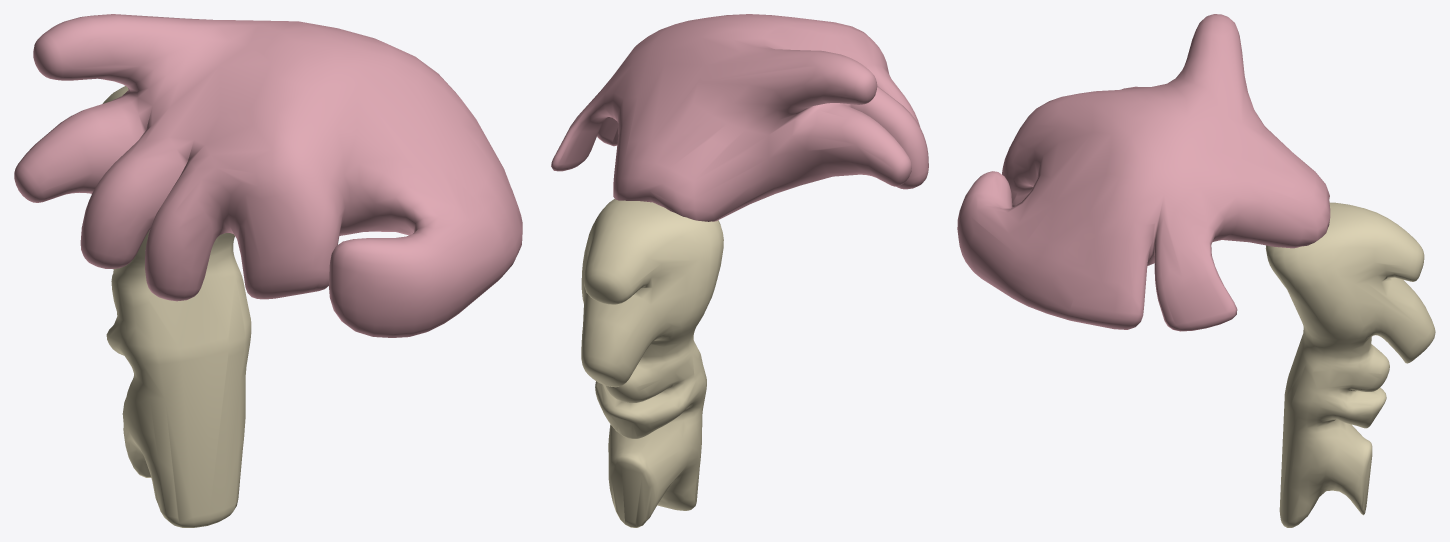
Rendered from Mane_09.fbx.
The picture shows the model from 3 angles, left to right: view 1: azimuth 30°, elevation 25°; view 2: azimuth 150°, elevation 25°; view 3: azimuth 270°, elevation 25°; orthographic projection. The views are drawn at different scales.
Visible parts, largest first — view 1: Mane_09; view 2: Mane_09; view 3: Mane_09.
Part boxes in pixels (x1,y1,x2,y2): Mane_09: (14,14,522,527); Mane_09: (551,14,928,527); Mane_09: (957,14,1435,527).
Bounding box in the file's own units: 162 × 203 × 199.
